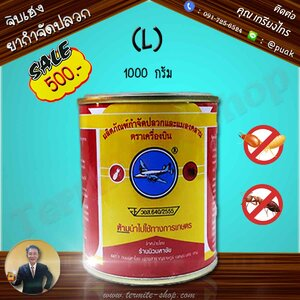Insecticide: (75, 89, 224, 289)
